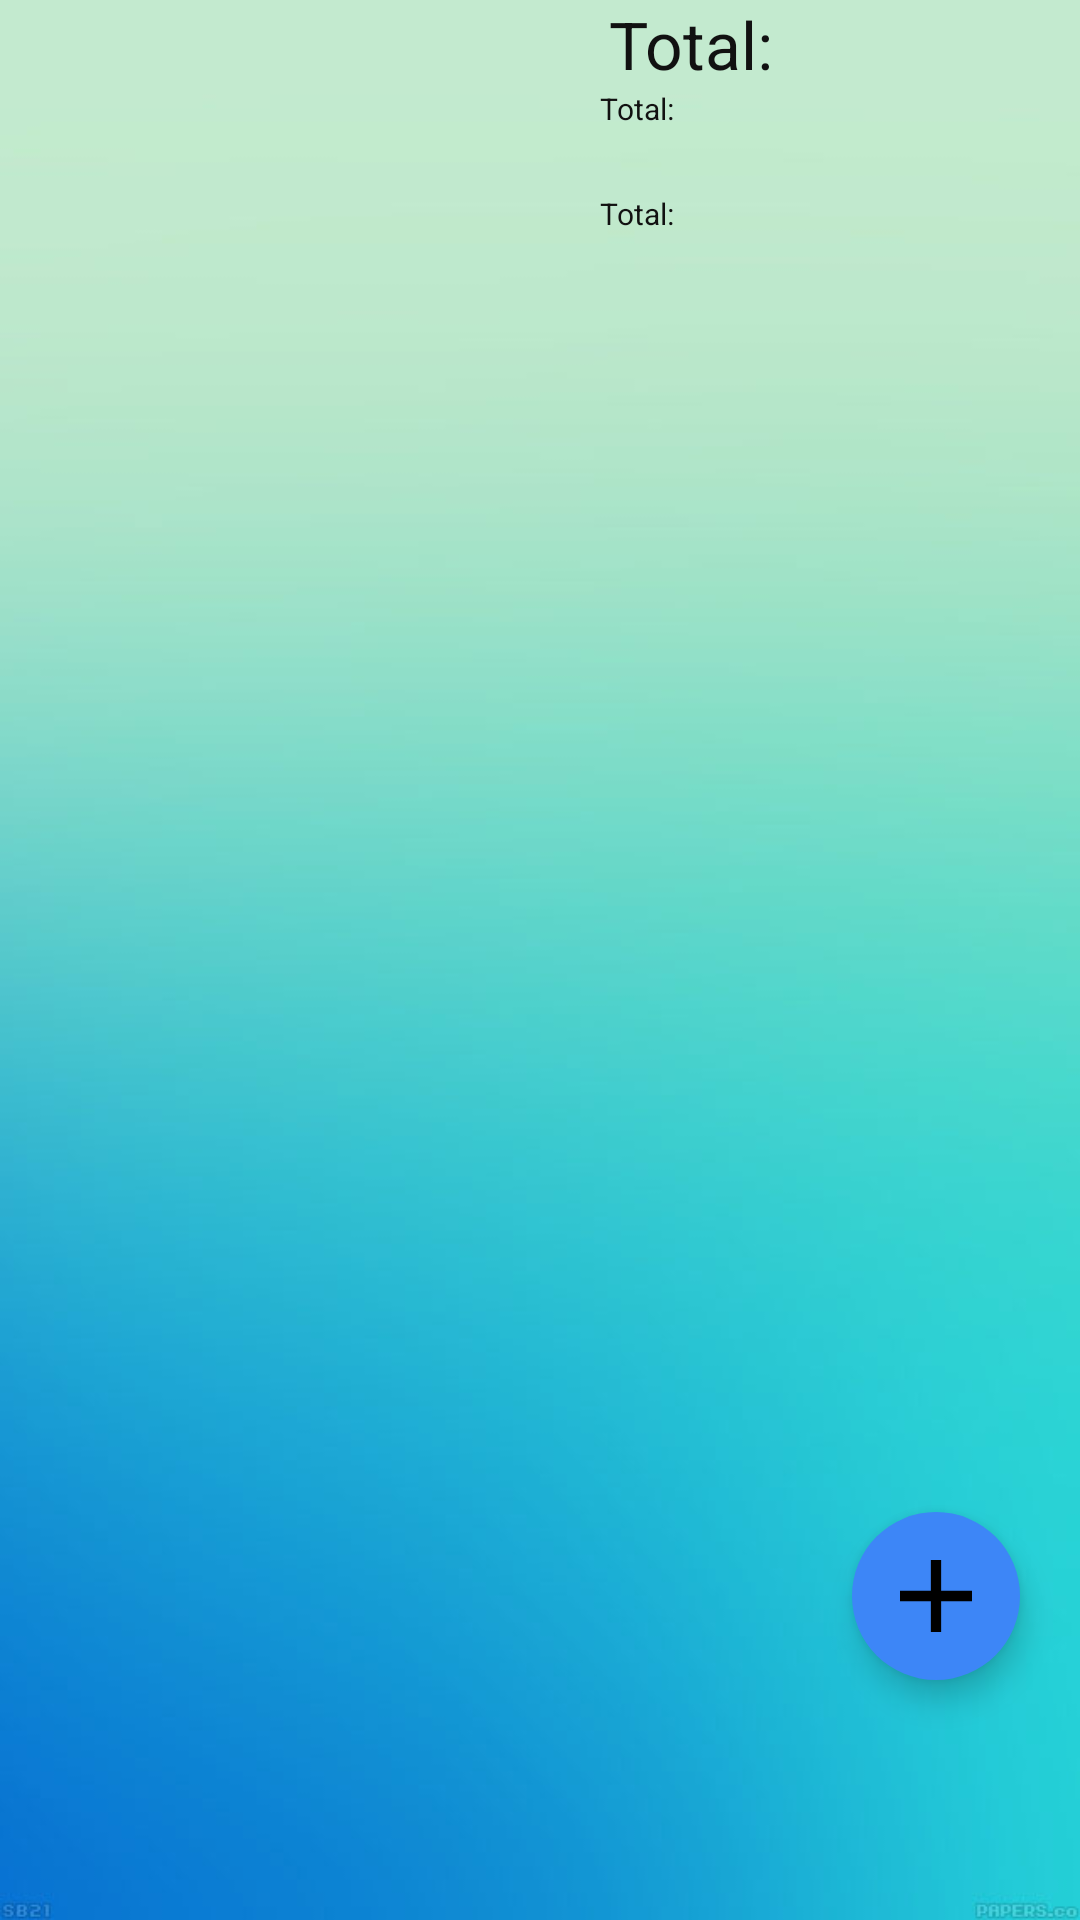

Icons on this 1080x1920 Android screen, each with its box as rect(x1, y1, x2, y2):
add plus: rect(852, 1512, 1020, 1680)
